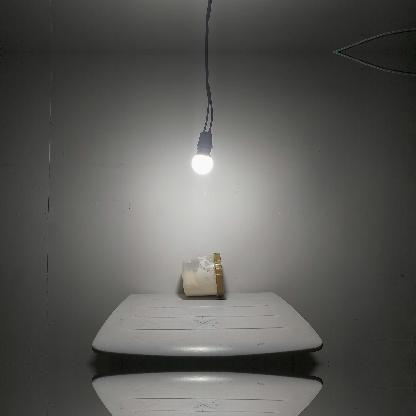Lady-s-Choice: (180, 253, 224, 297)
